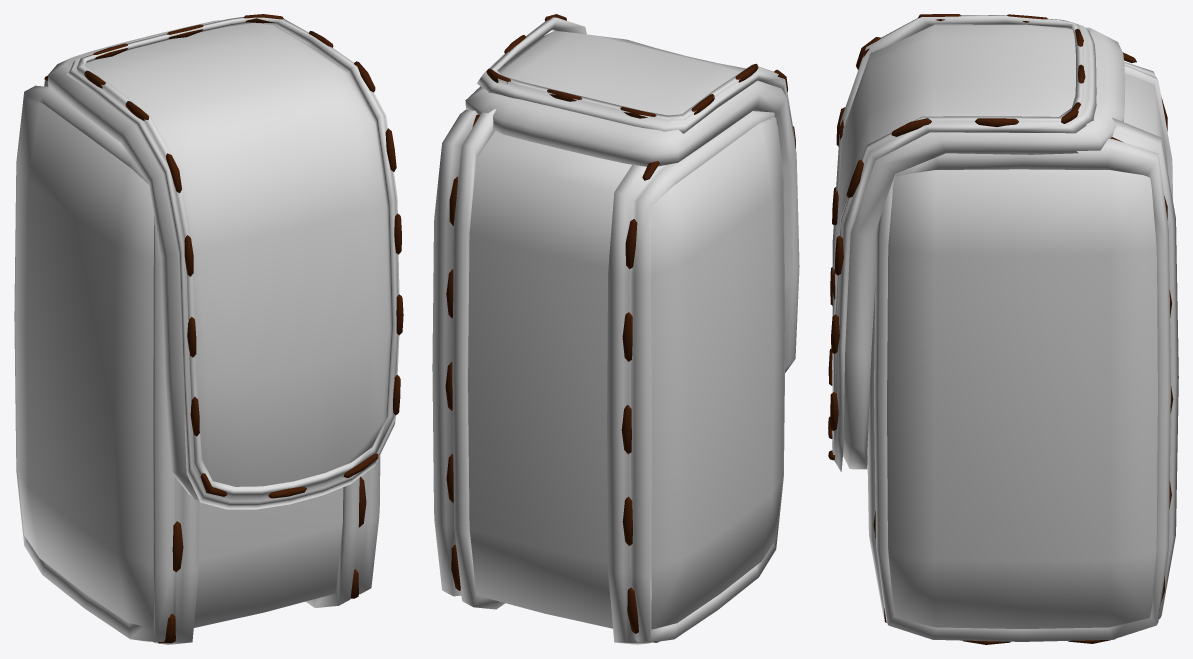
The model's file is LockPick.fbx.
The picture shows the model from 3 angles, left to right: view 1: azimuth 30°, elevation 25°; view 2: azimuth 150°, elevation 25°; view 3: azimuth 270°, elevation 25°; orthographic projection. The views are drawn at different scales.
Parts seen in each view (by area): view 1: LockPick; view 2: LockPick; view 3: LockPick.
Part boxes in pixels (box(x1,y1,x2,y2)): LockPick: box(14, 14, 403, 644); LockPick: box(432, 14, 799, 644); LockPick: box(828, 14, 1178, 644).
Bounding box in the file's own units: 0.0655 × 0.1301 × 0.0762.
